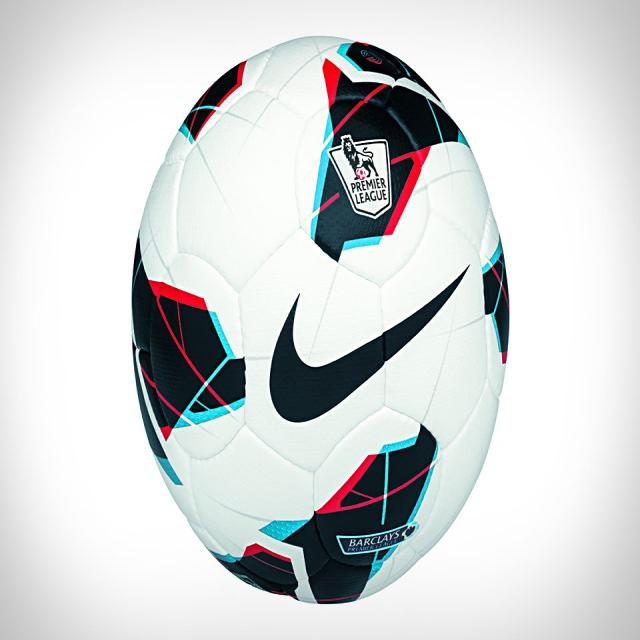soccer ball: (131, 35, 515, 608)
